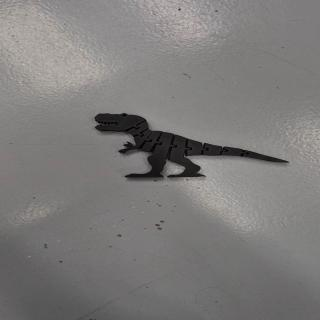dino: (94, 112, 291, 178)
